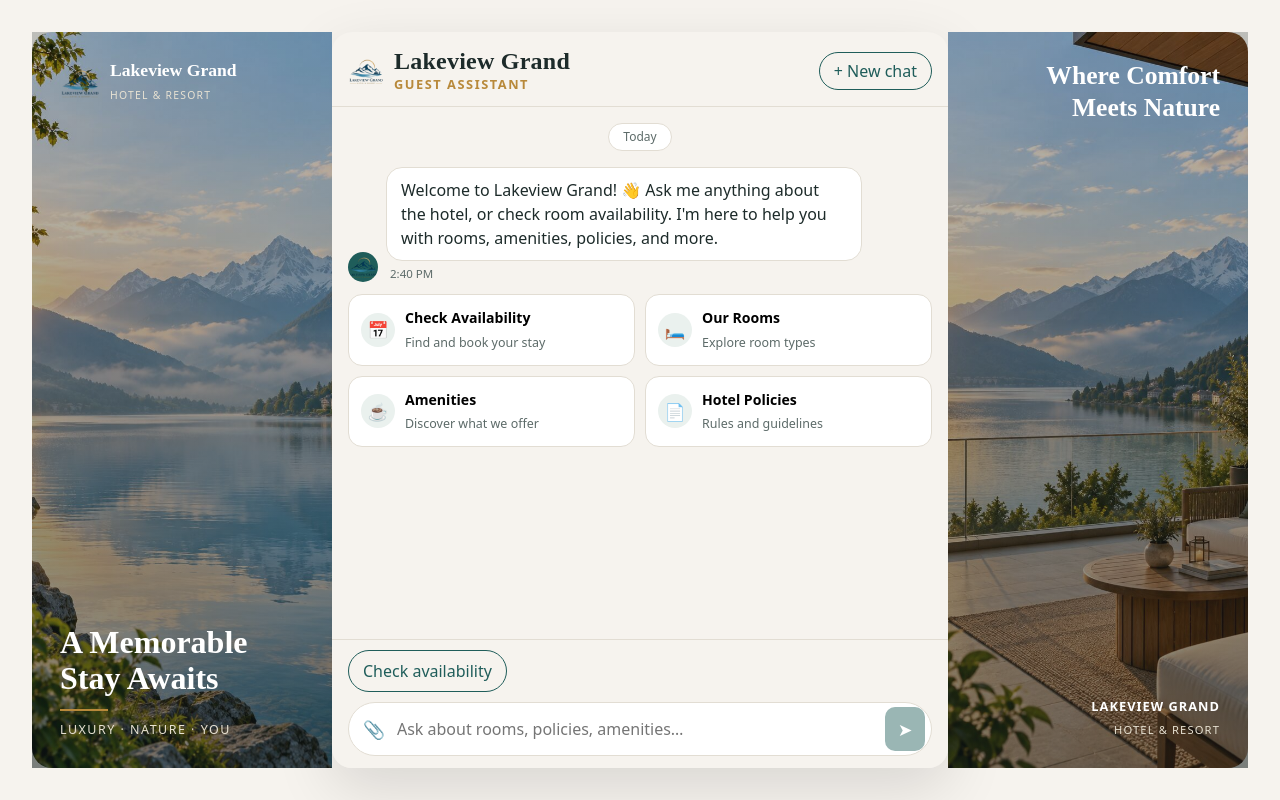
Test: availability intent opens the form; submitting shows room cards
Type "any rooms available?" into the field named "Your question" at point(635, 729), box x1=393 y1=707 x2=877 y2=751
Then press Enter
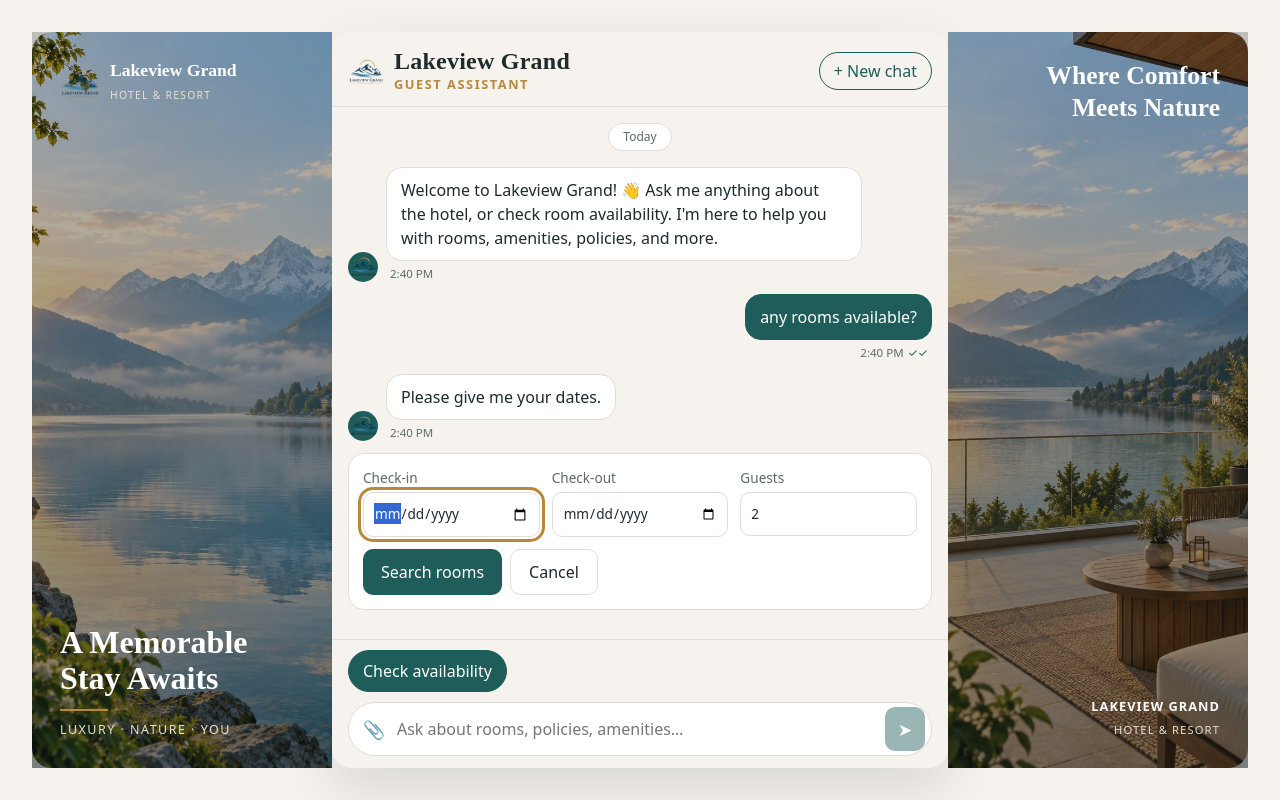
Type "2030-10-01" into the date field labelled "Check-in" at point(451, 515), box x1=363 y1=492 x2=540 y2=537
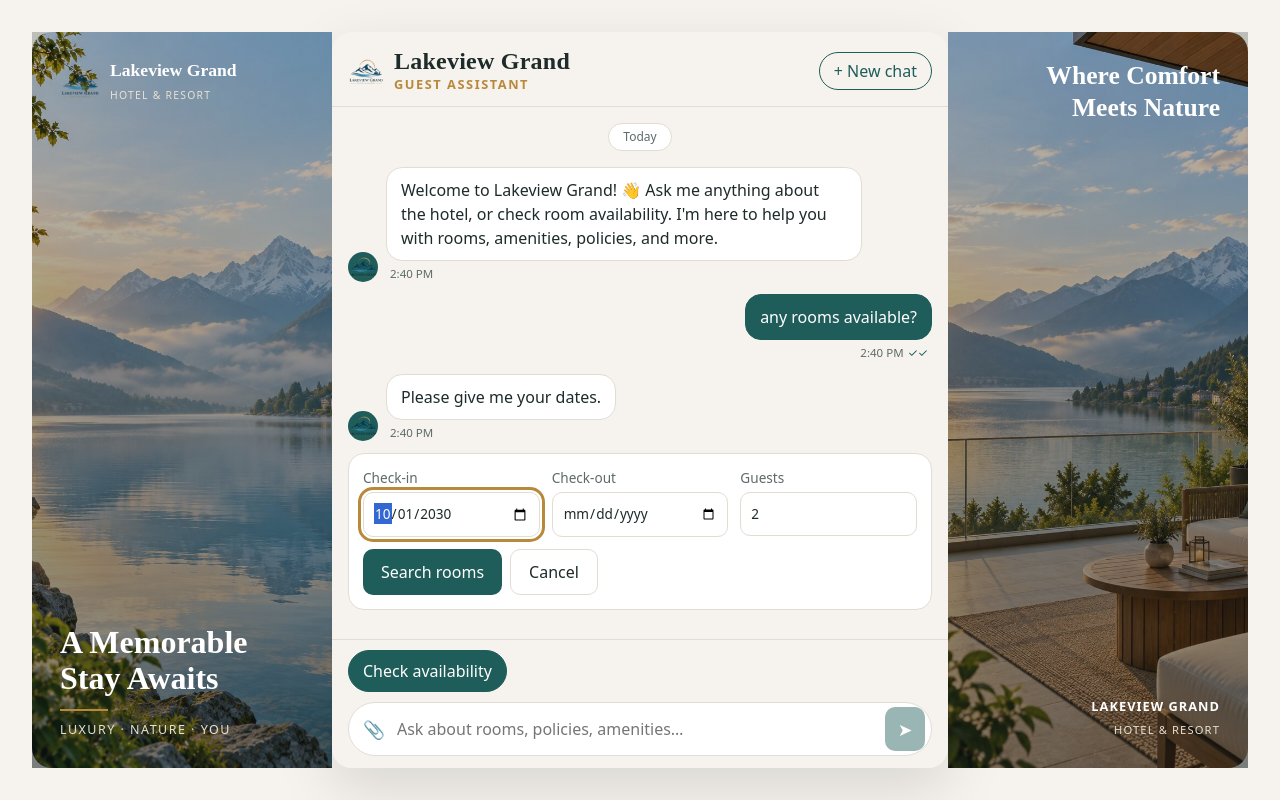
Type "2030-10-03" into the date field labelled "Check-out" at point(640, 515), box x1=552 y1=492 x2=728 y2=537
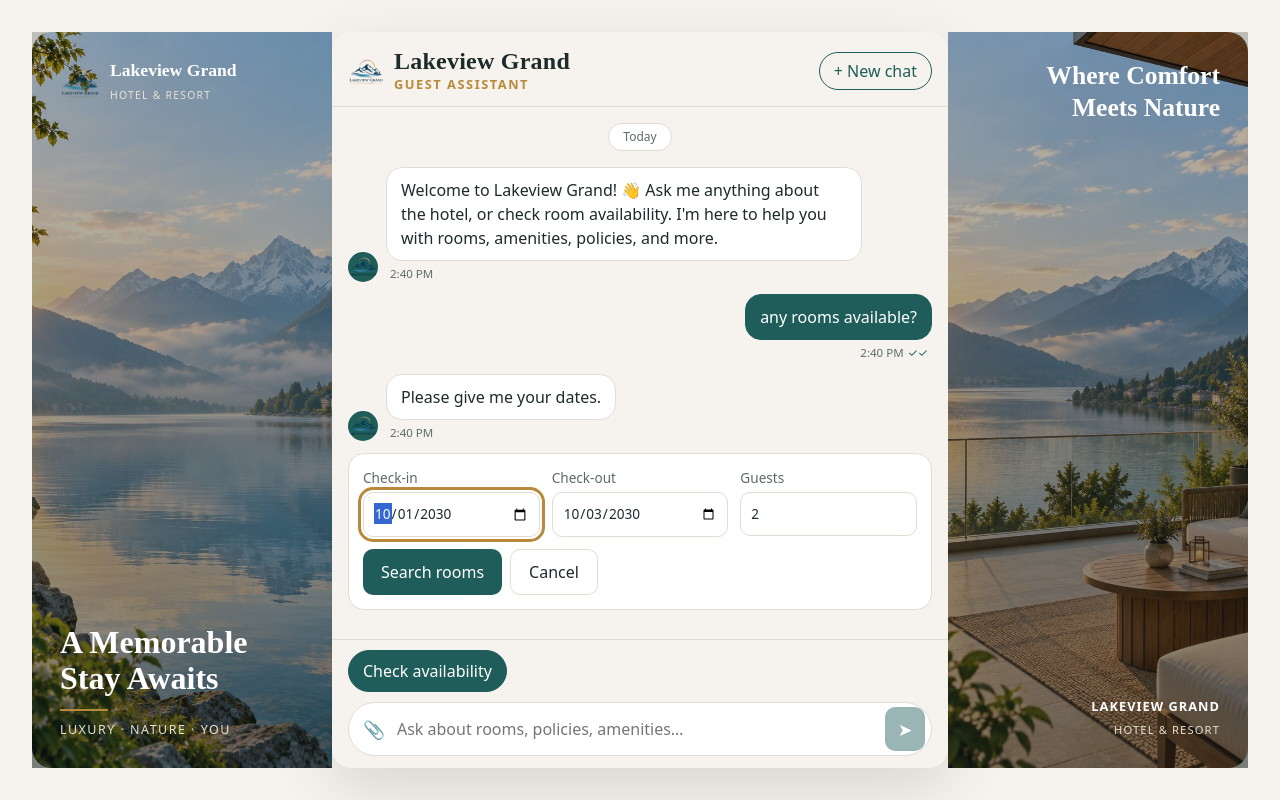
Replace the text in the number field labelled "Guests" with "3" at point(829, 514), box x1=740 y1=492 x2=917 y2=536
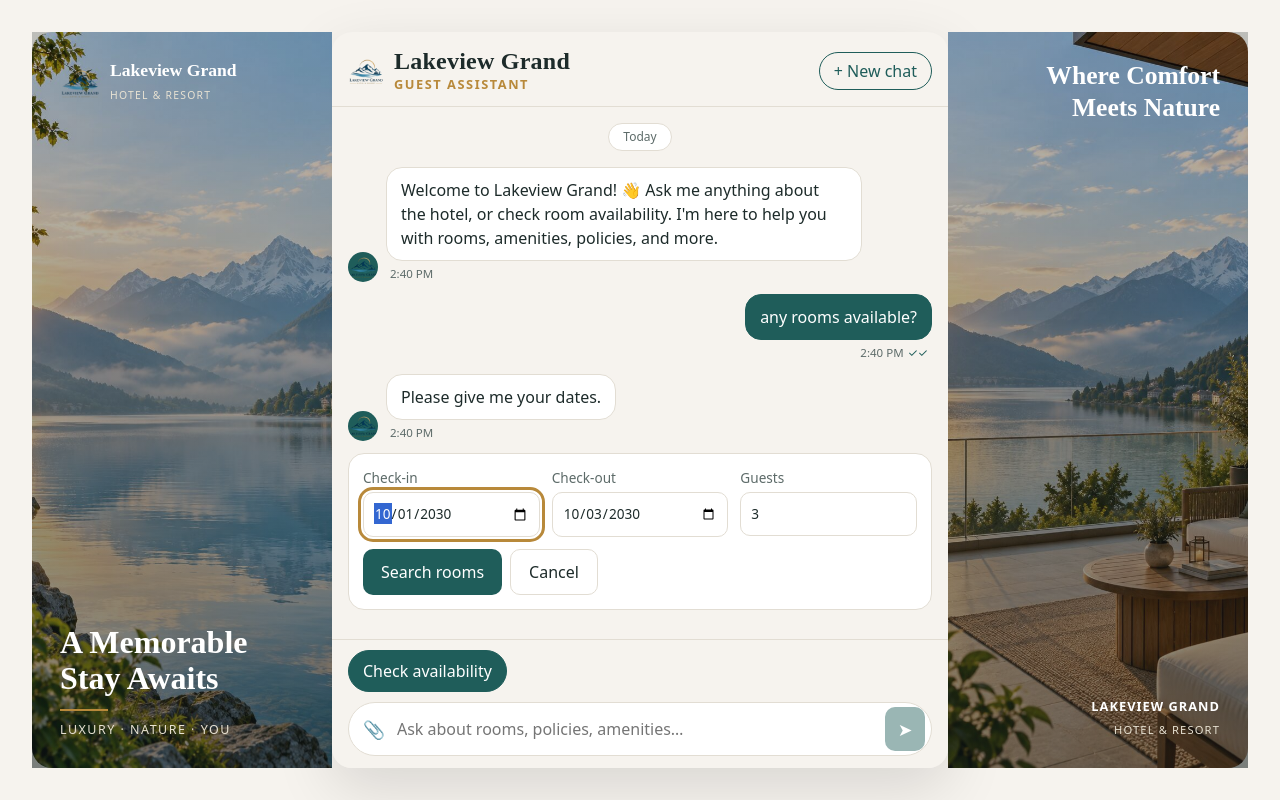
Click the button "Search rooms" at point(433, 572), box x1=363 y1=549 x2=502 y2=595
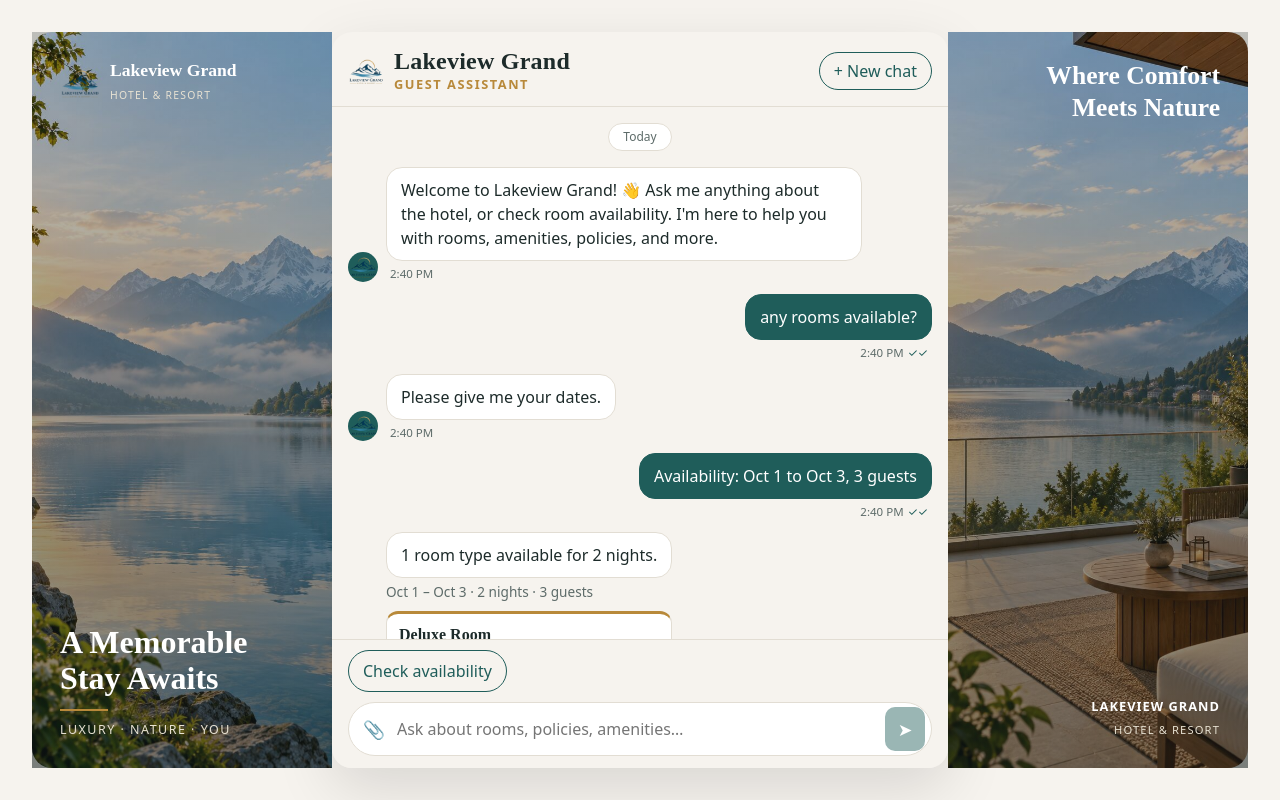
Check: the heading "Deluxe Room" is shown, box x1=399 y1=626 x2=491 y2=639
